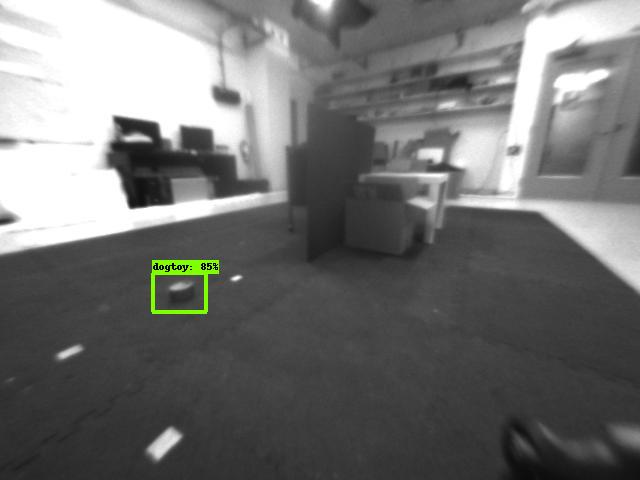dogtoy: (150, 273, 208, 308)
